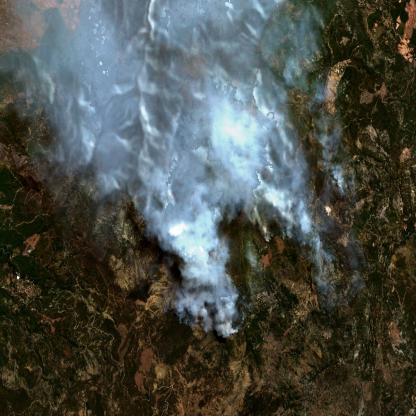fire: (251, 147, 369, 303), (152, 280, 244, 350)
